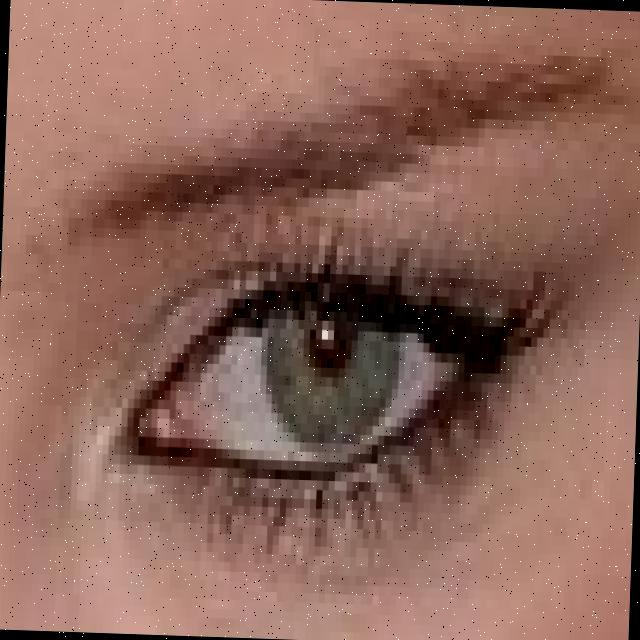Normal: (125, 198, 575, 528)
